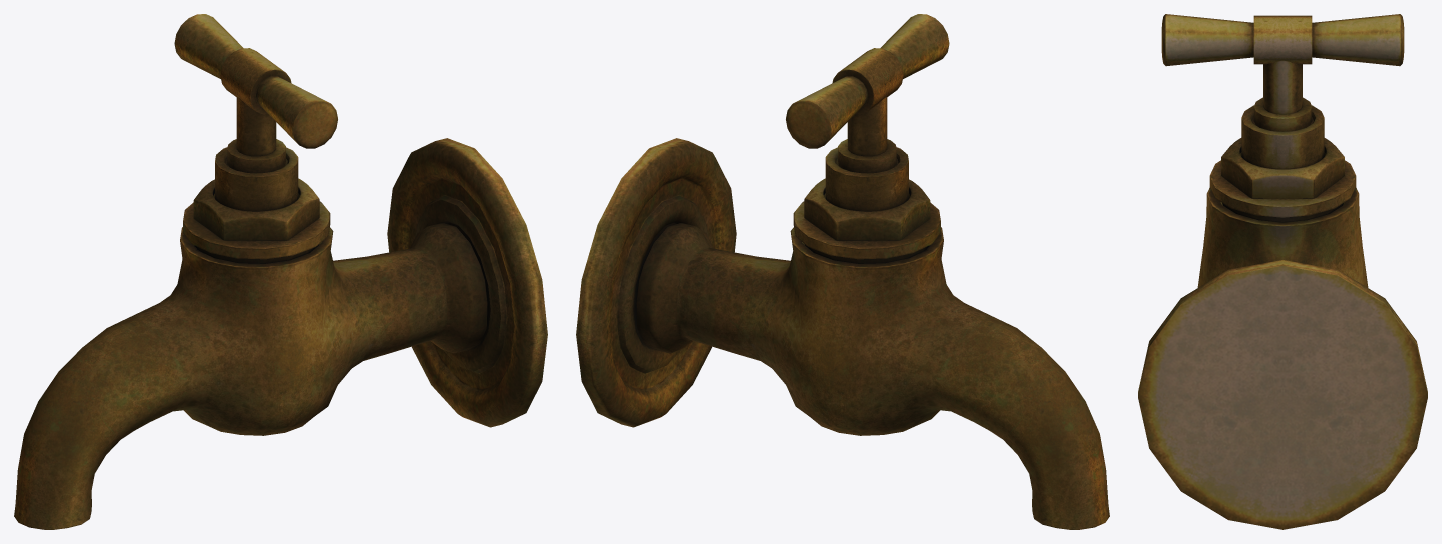
The model's file is obj_tap_6023c6.glb.
3 renders of one model, left to right at view 1: azimuth 30°, elevation 25°; view 2: azimuth 150°, elevation 25°; view 3: azimuth 270°, elevation 25°, orthographic.
Visible parts, largest first — view 1: obj_tap_6023c6; view 2: obj_tap_6023c6; view 3: obj_tap_6023c6.
Part boxes in pixels (left/top/right/bottom): obj_tap_6023c6: left=14, top=14, right=547, bottom=529; obj_tap_6023c6: left=576, top=14, right=1109, bottom=529; obj_tap_6023c6: left=1138, top=14, right=1427, bottom=529.
Size of the model in its own units: 0.3494 by 0.3 by 0.1935.
Materials: 1 (1 with a texture image).
